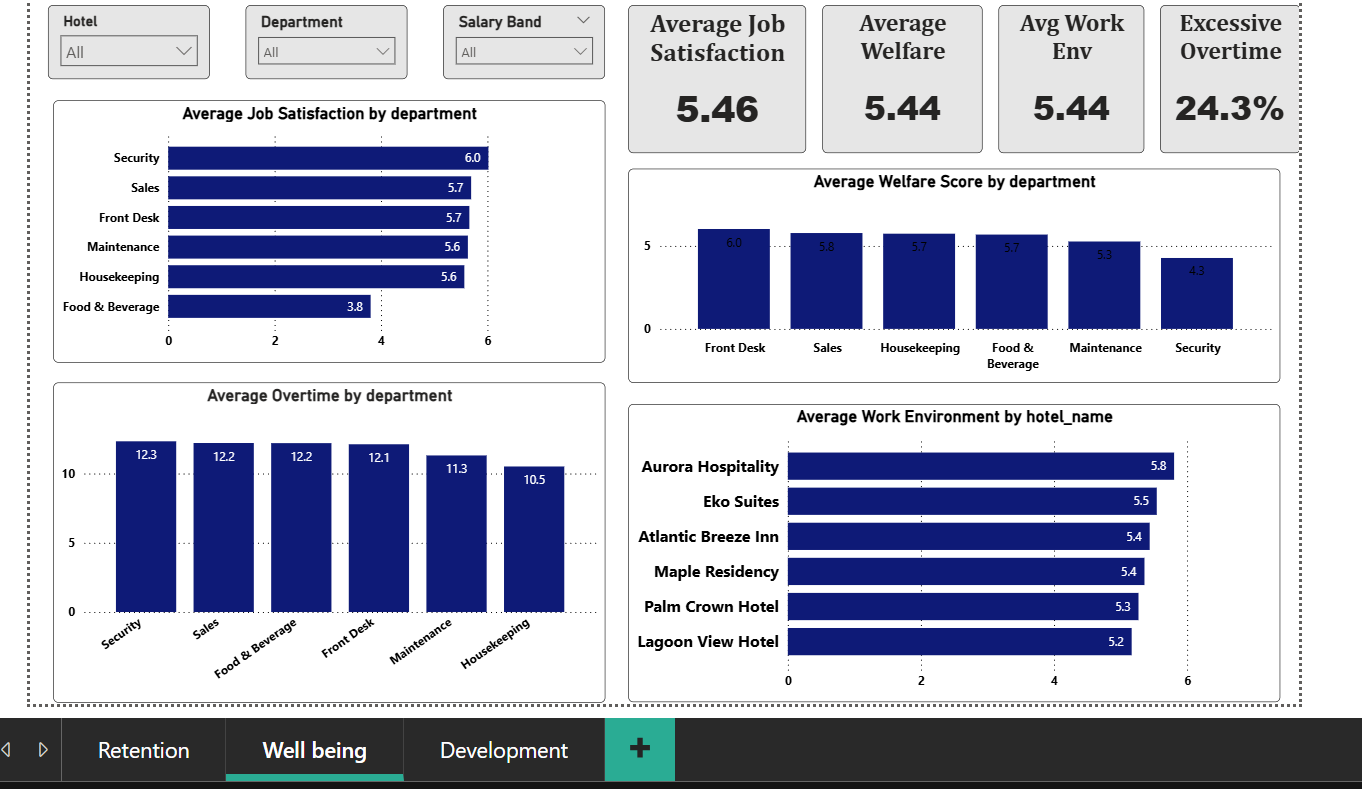

This screenshot's page, from the dashboard's own definition file:
{"tool":"powerbi","page":{"name":"Well being","canvas":[1280,720],"ordinal":1},"visuals":[{"type":"slicer","fields":{"Values":["hospitality.hotel_name"]},"box":[18.1,16.1,163.3,74.6],"z":0},{"type":"slicer","fields":{"Values":["hospitality.department"]},"box":[217.8,16.1,163.3,74.6],"z":1000},{"type":"slicer","fields":{"Values":["hospitality.salary_band"]},"box":[417.4,16.1,163.3,74.6],"z":2000},{"type":"card","title":"Average Job Satisfaction","fields":{"Values":["All Measures.Average Job Satisfaction"]},"box":[602.9,16.1,179.4,149.2],"z":3000},{"type":"card","title":"Avg Work Env","fields":{"Values":["All Measures.Average Work Environment"]},"box":[975.9,16.1,147.2,149.2],"z":4000},{"type":"card","title":"Excessive Overtime","fields":{"Values":["All Measures.% Excessive Overtime"]},"box":[1139.2,16.1,141.1,149.2],"z":5000},{"type":"card","title":"Average Welfare ","fields":{"Values":["All Measures.Average Welfare Score"]},"box":[798.4,16.1,161.3,149.2],"z":6000},{"type":"clusteredColumnChart","fields":{"Category":["hospitality.department"],"Y":["All Measures.Average Overtime"]},"box":[24.2,397.2,556.5,322.6],"z":7000},{"type":"clusteredBarChart","fields":{"Category":["hospitality.department"],"Y":["All Measures.Average Job Satisfaction"]},"box":[24.2,112.9,556.5,264.1],"z":8000},{"type":"barChart","fields":{"Category":["hospitality.hotel_name"],"Y":["All Measures.Average Work Environment"]},"box":[602.9,419.4,657.3,300.4],"z":9000},{"type":"clusteredColumnChart","fields":{"Category":["hospitality.department"],"Y":["All Measures.Average Welfare Score"]},"box":[602.9,181.5,657.3,215.7],"z":10000}]}

Visuals, with their boxes on the page's 1280x720 design canvas (x1, y1, x2, y2). These are canvas units, not pixel positions in the 1362x789 screenshot, which may show the page scaled, cropped or inside an application window:
slicer - hospitality.hotel_name: x1=18 y1=16 x2=181 y2=91
slicer - hospitality.department: x1=218 y1=16 x2=381 y2=91
slicer - hospitality.salary_band: x1=417 y1=16 x2=581 y2=91
"Average Job Satisfaction" card: x1=603 y1=16 x2=782 y2=165
"Avg Work Env" card: x1=976 y1=16 x2=1123 y2=165
"Excessive Overtime" card: x1=1139 y1=16 x2=1280 y2=165
"Average Welfare " card: x1=798 y1=16 x2=960 y2=165
clusteredColumnChart - hospitality.department x All Measures.Average Overtime: x1=24 y1=397 x2=581 y2=720
clusteredBarChart - hospitality.department x All Measures.Average Job Satisfaction: x1=24 y1=113 x2=581 y2=377
barChart - hospitality.hotel_name x All Measures.Average Work Environment: x1=603 y1=419 x2=1260 y2=720
clusteredColumnChart - hospitality.department x All Measures.Average Welfare Score: x1=603 y1=182 x2=1260 y2=397
